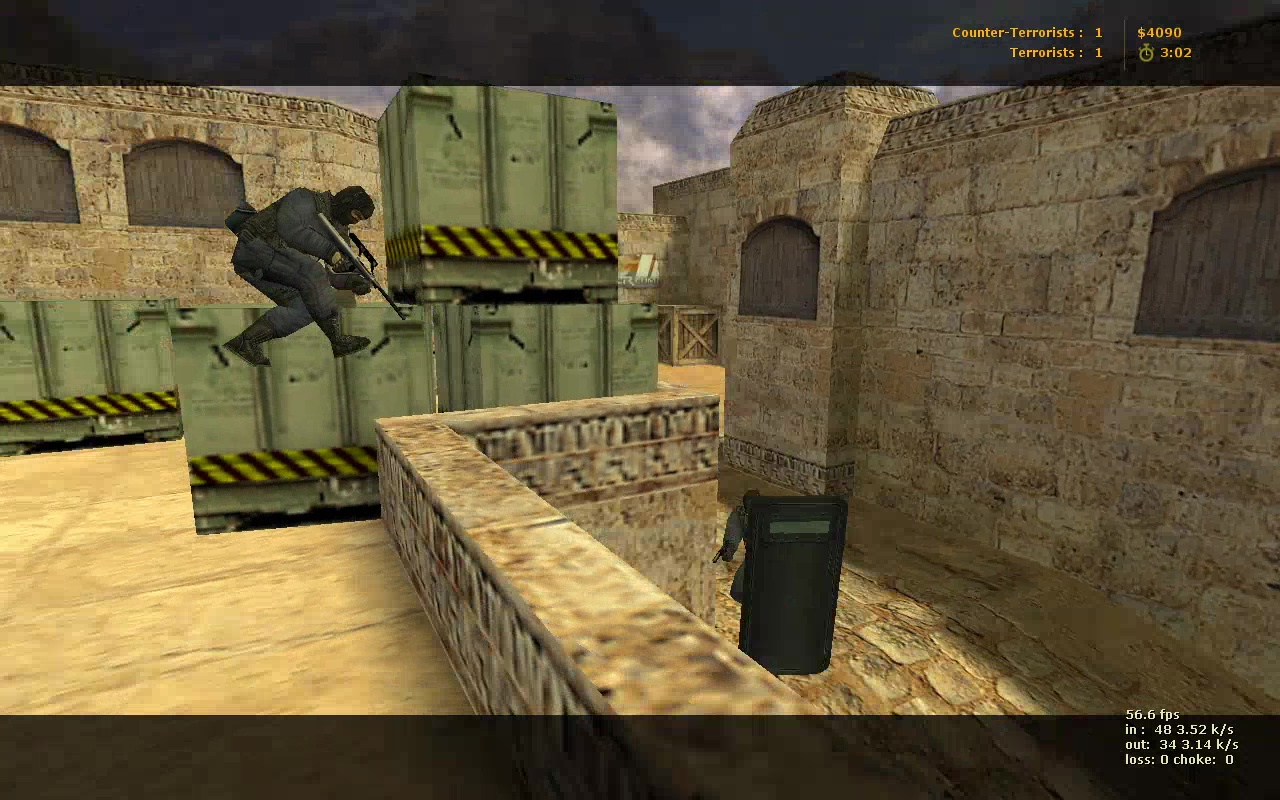ct: (227, 185, 377, 370)
